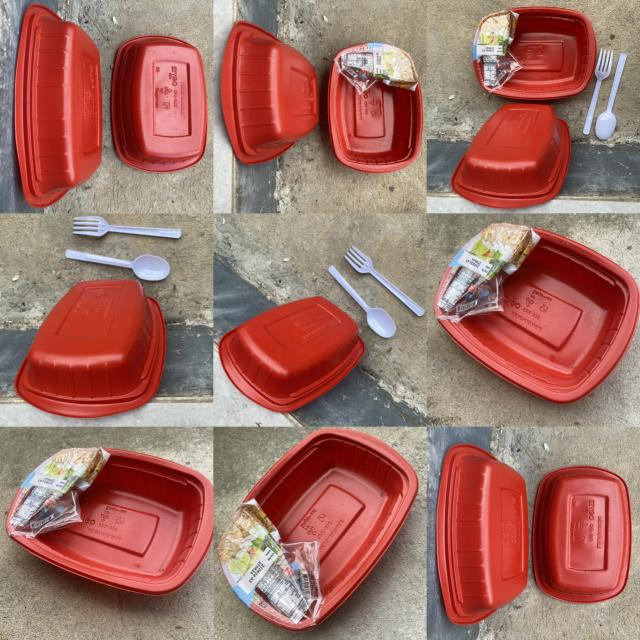Single-Use-Plastic: (218, 429, 419, 631), (435, 222, 639, 402), (6, 448, 212, 595), (15, 280, 166, 418), (15, 4, 102, 208), (219, 296, 365, 412), (438, 445, 529, 624), (221, 21, 319, 164), (532, 466, 631, 602), (111, 35, 208, 172), (329, 42, 422, 172), (472, 8, 596, 100), (345, 246, 425, 316), (329, 266, 396, 338), (66, 250, 170, 281), (595, 54, 626, 140), (582, 49, 612, 134), (74, 216, 181, 238)
